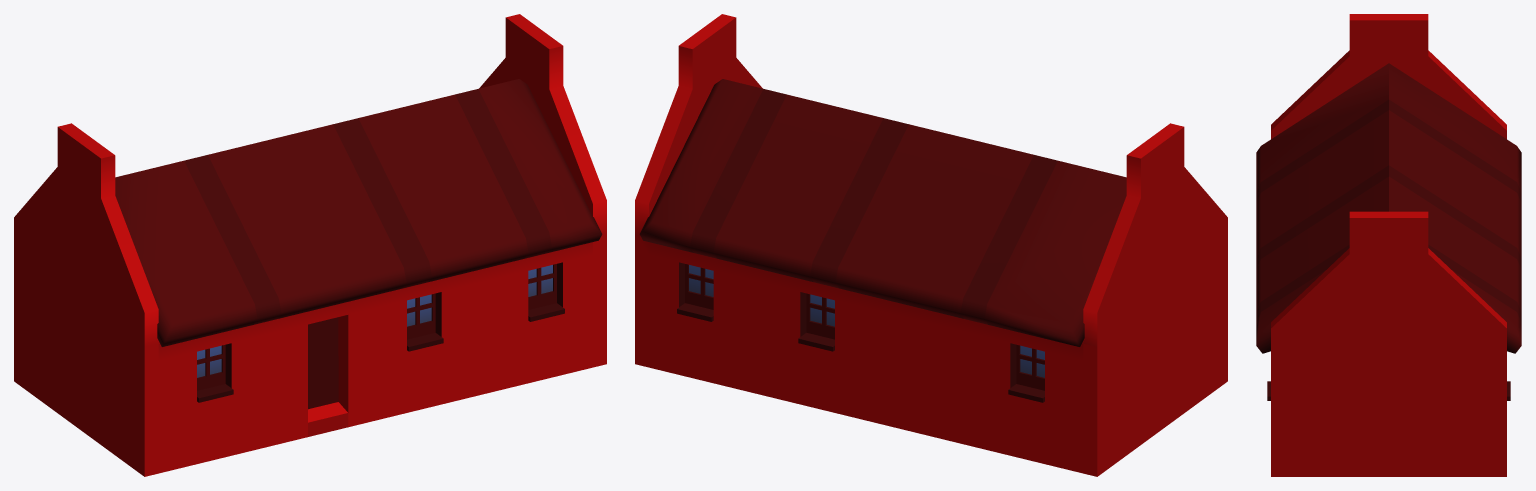
File: buildings-farm-thatchedcottage_v2.fbx
3 renders of one model, left to right at view 1: azimuth 30°, elevation 25°; view 2: azimuth 150°, elevation 25°; view 3: azimuth 270°, elevation 25°, orthographic. The views are drawn at different scales.
Visible parts, largest first — view 1: ThatchedCottage_v2_base114, ThatchedCottage_v2_color, ThatchedCottage_v2_windowRefl; view 2: ThatchedCottage_v2_base114, ThatchedCottage_v2_color, ThatchedCottage_v2_windowRefl; view 3: ThatchedCottage_v2_base114.
Boxes of the visible parts, x1,y1,x2,y2 form: ThatchedCottage_v2_base114: (14,14,606,476); ThatchedCottage_v2_color: (197,262,562,409); ThatchedCottage_v2_windowRefl: (197,265,552,377); ThatchedCottage_v2_base114: (635,14,1227,476); ThatchedCottage_v2_color: (679,262,1044,390); ThatchedCottage_v2_windowRefl: (689,265,1044,377); ThatchedCottage_v2_base114: (1256,14,1521,476).
Size of the model in its own units: 13.5 by 8 by 7.43.
